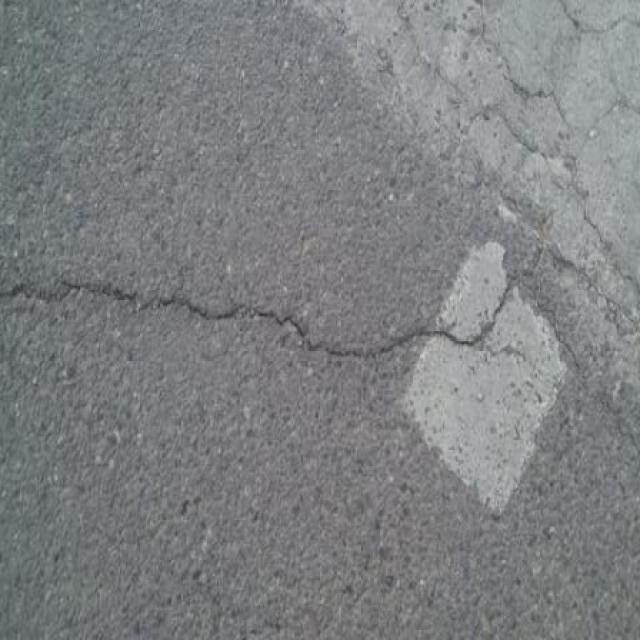Diagonal Crack: (0, 244, 640, 368), (323, 2, 640, 235)
